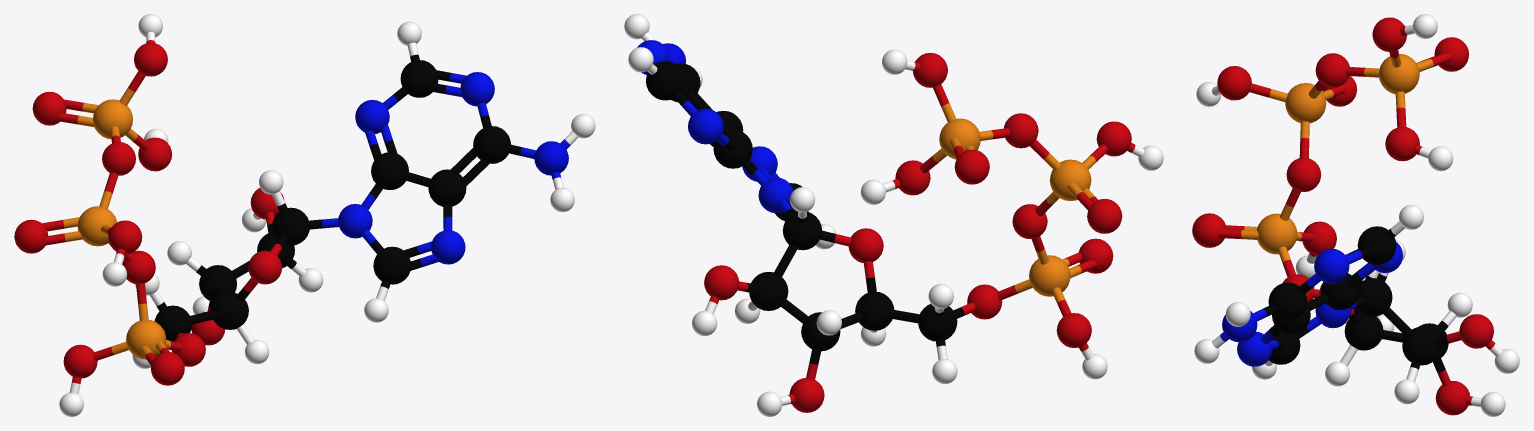
The model's file is adenosine_triphosphate.glb.
3 views of the same model, side by side, from view 1: azimuth 30°, elevation 25°; view 2: azimuth 150°, elevation 25°; view 3: azimuth 270°, elevation 25° (orthographic). The views are drawn at different scales.
Parts seen in each view (by area): view 1: Shape_IndexedFaceSet.022; view 2: Shape_IndexedFaceSet.022; view 3: Shape_IndexedFaceSet.022.
Part boxes in pixels (x1,y1,x2,y2): Shape_IndexedFaceSet.022: (14,14,595,416); Shape_IndexedFaceSet.022: (624,14,1163,416); Shape_IndexedFaceSet.022: (1192,14,1519,416).
Size of the model in its own units: 136 by 87.61 by 71.61.
